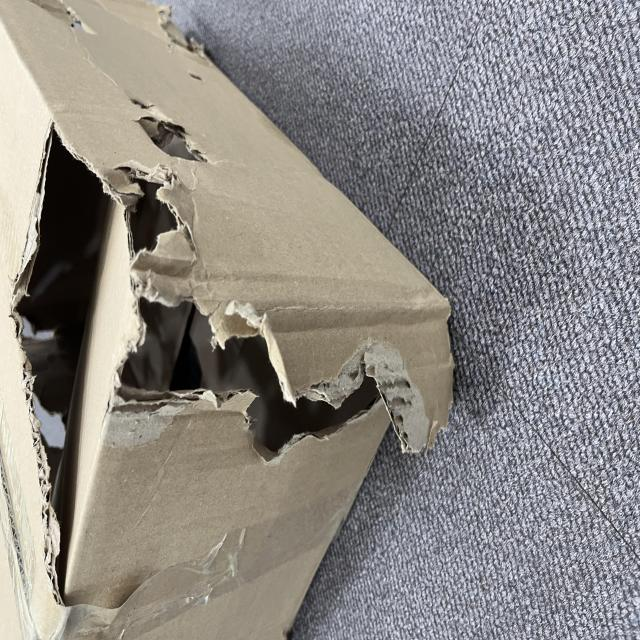damaged: (133, 148, 274, 529), (29, 17, 402, 158), (277, 157, 363, 231), (352, 186, 414, 261)
